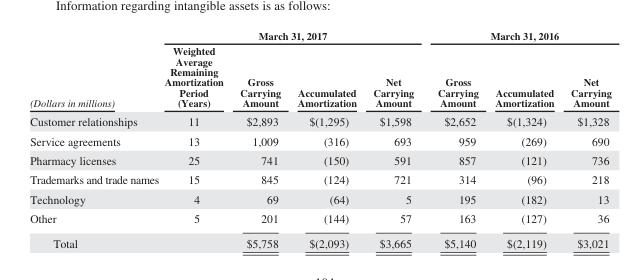table: (29, 29, 610, 249)
table column: (29, 29, 161, 249), (288, 29, 364, 249), (486, 29, 561, 249), (161, 29, 231, 249), (364, 29, 425, 249), (425, 29, 486, 249), (231, 29, 288, 249), (561, 29, 610, 249)
table column header: (29, 29, 610, 111)
table row: (29, 42, 610, 111), (29, 208, 610, 230), (29, 130, 610, 150), (29, 169, 610, 189), (29, 111, 610, 130), (29, 150, 610, 169), (29, 189, 610, 208), (29, 230, 610, 249), (29, 29, 610, 42)
table spanning cell: (29, 29, 161, 111), (161, 29, 425, 42), (425, 29, 610, 42)
